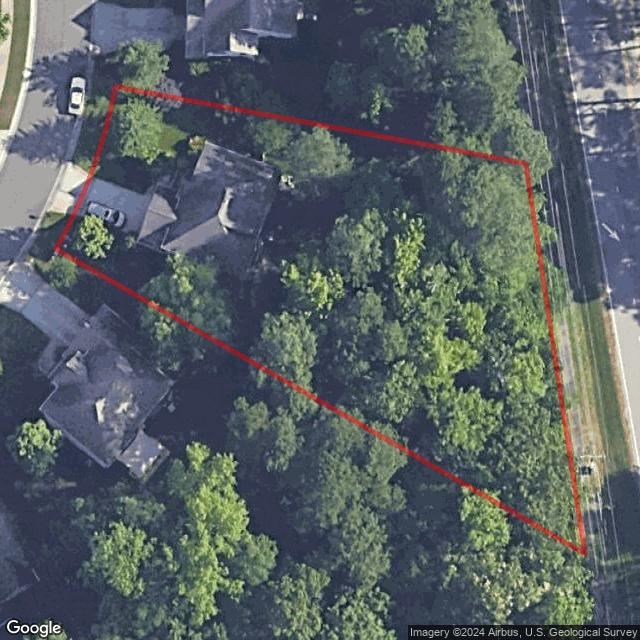Driveway: (74, 172, 152, 236)
Extra-Driveway: (47, 162, 91, 214)
Extra-Lawn: (72, 84, 117, 172), (33, 211, 73, 248)
House: (135, 140, 285, 279)
Lawn: (57, 87, 584, 552)
Other: (249, 129, 585, 552)
Sidewalk: (145, 176, 178, 197)
